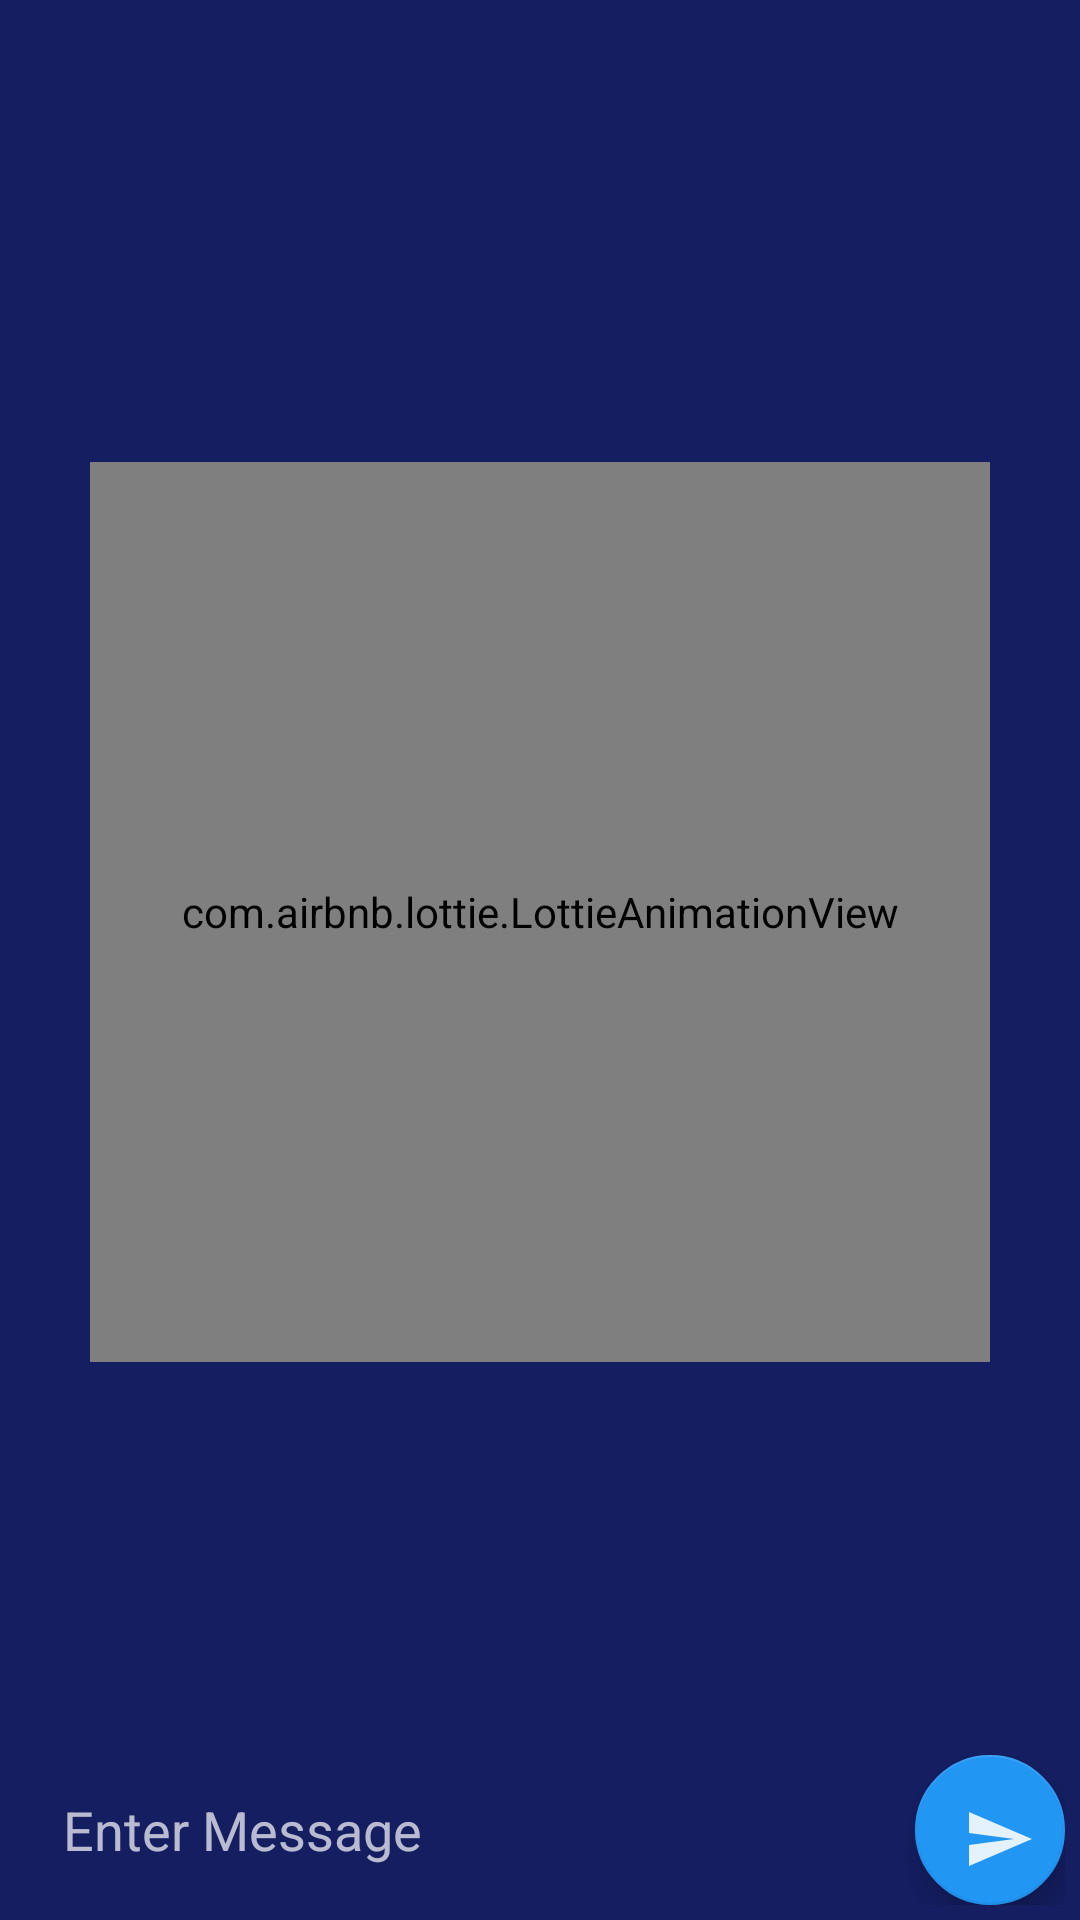

Icons on this 1080*1920 Android screen, each with its box as (x1, y1, x2, y2):
Send: (915, 1755, 1065, 1905)
